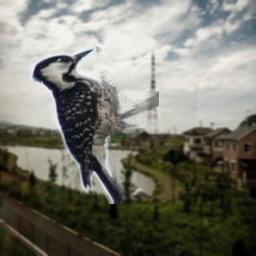Woodpecker: (29, 46, 159, 204)
